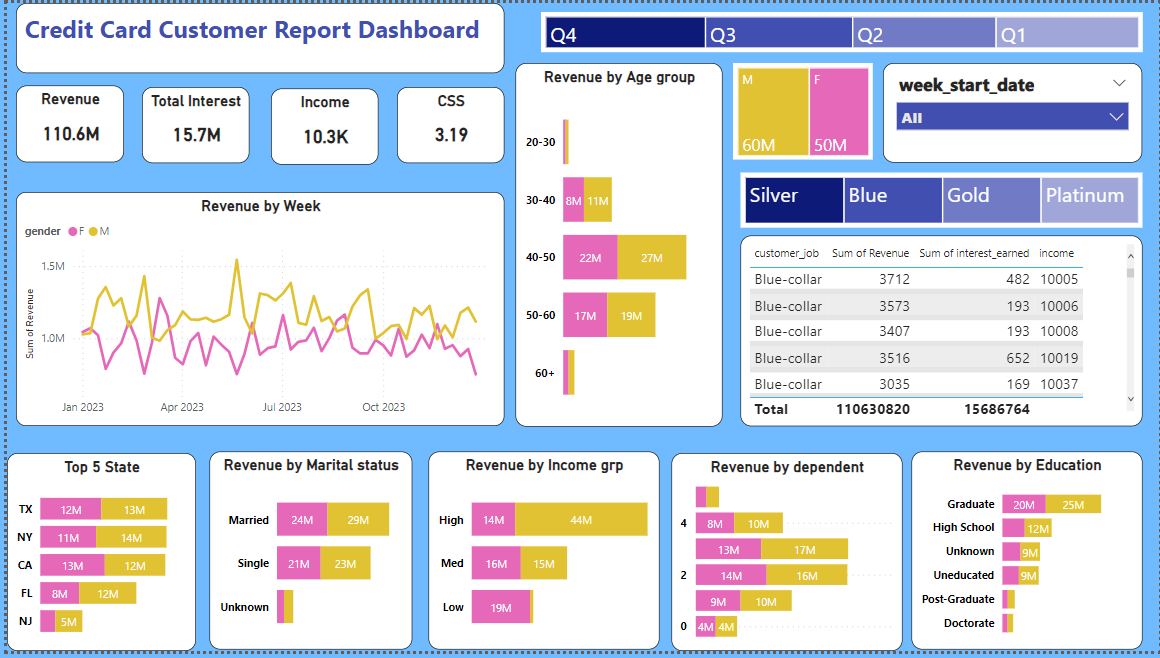

What the dashboard file says about the page in this screenshot:
{"tool":"powerbi","page":{"name":"CC Customer","canvas":[1280,720],"ordinal":2},"visuals":[{"type":"textbox","box":[9.9,0,542.9,77.8],"z":0},{"type":"barChart","title":"Revenue by Income grp","fields":{"Y":["Sum(public cc_detail.Revenue)"],"Category":["public cust_detail.IncomeGroup"],"Series":["public cust_detail.gender"]},"box":[468.4,498.2,256.6,220.1],"z":1000},{"type":"tableEx","fields":{"Values":["public cust_detail.customer_job","Sum(public cc_detail.Revenue)","Sum(public cc_detail.interest_earned)","public cust_detail.income"]},"box":[814.4,258.2,446.9,211.9],"z":2000},{"type":"card","title":"Revenue","fields":{"Values":["Sum(public cc_detail.Revenue)"]},"box":[9.4,92.5,120,85],"z":3000},{"type":"card","title":"Total Interest","fields":{"Values":["Sum(public cc_detail.interest_earned)"]},"box":[150.6,92.7,119.2,84.4],"z":4000},{"type":"card","title":"Income","fields":{"Values":["CountNonNull(public cust_detail.income)"]},"box":[293,94.3,119.2,84.4],"z":5000},{"type":"card","title":"CSS","fields":{"Values":["Avg(public cust_detail.cust_satisfaction_score)"]},"box":[433.7,92.7,119.2,84.4],"z":6000},{"type":"treemap","fields":{"Group":["public cc_detail.qtr"],"Values":["Avg(public cc_detail.client_num)"]},"box":[592.6,9.9,668.7,44.7],"z":7000},{"type":"treemap","fields":{"Values":["Avg(public cc_detail.client_num)"],"Group":["public cc_detail.card_category"]},"box":[814.4,188.7,446.9,61.2],"z":9000},{"type":"lineChart","title":"Revenue by Week","fields":{"Y":["Sum(public cc_detail.Revenue)"],"Series":["public cust_detail.gender"],"Category":["public cc_detail.week_start_date.Variation.Date Hierarchy.Year","public cc_detail.week_start_date.Variation.Date Hierarchy.Month","public cc_detail.week_start_date.Variation.Date Hierarchy.Day"]},"box":[9.9,210.2,542.9,259.9],"z":10000},{"type":"treemap","fields":{"Group":["public cust_detail.gender"],"Values":["Sum(public cc_detail.Revenue)"]},"box":[806.1,66.2,155.6,107.6],"z":11000},{"type":"barChart","title":"Revenue by Age group","fields":{"Y":["Sum(public cc_detail.Revenue)"],"Series":["public cust_detail.gender"],"Category":["public cust_detail.AgeGroup"]},"box":[564.4,66.2,230.1,403.9],"z":12000},{"type":"barChart","title":"Revenue by dependent","fields":{"Y":["Sum(public cc_detail.Revenue)"],"Category":["public cust_detail.dependent_count"],"Series":["public cust_detail.gender"]},"box":[738.2,499.9,256.6,220.1],"z":13000},{"type":"barChart","title":"Revenue by Education ","fields":{"Y":["Sum(public cc_detail.Revenue)"],"Category":["public cust_detail.education_level"],"Series":["public cust_detail.gender"]},"box":[1004.7,498.2,256.6,220.1],"z":14000},{"type":"barChart","title":"Top 5 State","fields":{"Y":["Sum(public cc_detail.Revenue)"],"Category":["public cust_detail.state_cd"],"Series":["public cust_detail.gender"]},"box":[0,499.9,210.2,220.1],"z":15000},{"type":"slicer","fields":{"Values":["public cc_detail.week_start_date"]},"box":[973.2,66.2,288,110.9],"z":16000},{"type":"barChart","title":"Revenue by Marital status","fields":{"Y":["Sum(public cc_detail.Revenue)"],"Category":["public cust_detail.marital_status"],"Series":["public cust_detail.gender"]},"box":[225.1,498.2,225.1,220.1],"z":17000}]}

Visuals, with their boxes in screenshot pixels (x1, y1, x2, y2), scaled from the page's 1280x720 canvas onto the 1160x658 screenshot:
textbox: [9, 0, 501, 71]
"Revenue by Income grp" barChart: [424, 455, 657, 656]
tableEx - public cust_detail.customer_job x Sum(public cc_detail.Revenue): [738, 236, 1143, 430]
"Revenue" card: [9, 85, 117, 162]
"Total Interest" card: [136, 85, 245, 162]
"Income" card: [266, 86, 374, 163]
"CSS" card: [393, 85, 501, 162]
treemap - public cc_detail.qtr x Avg(public cc_detail.client_num): [537, 9, 1143, 50]
treemap - Avg(public cc_detail.client_num) x public cc_detail.card_category: [738, 172, 1143, 228]
"Revenue by Week" lineChart: [9, 192, 501, 430]
treemap - public cust_detail.gender x Sum(public cc_detail.Revenue): [731, 60, 872, 159]
"Revenue by Age group" barChart: [511, 60, 720, 430]
"Revenue by dependent" barChart: [669, 457, 902, 657]
"Revenue by Education " barChart: [911, 455, 1143, 656]
"Top 5 State" barChart: [0, 457, 190, 657]
slicer - public cc_detail.week_start_date: [882, 60, 1143, 162]
"Revenue by Marital status" barChart: [204, 455, 408, 656]
